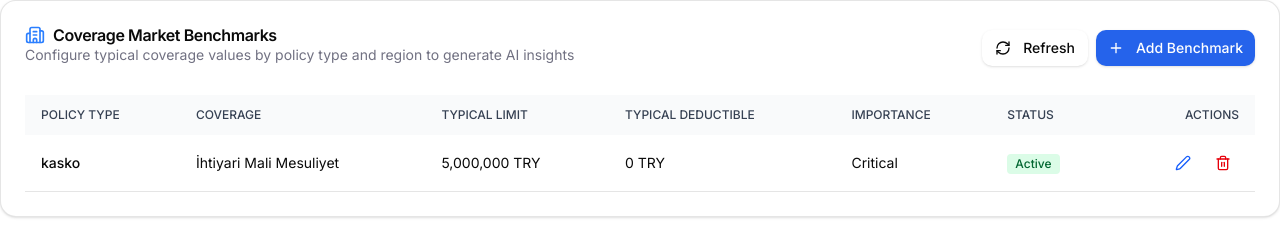
MarketBenchmarksPanel › soft deletes a benchmark when trash is clicked
The image size is (1280, 235).
Expected: the text "kasko" is shown, [25,135,180,192]
Click the 2nd button named "Delete" at (1223, 163), box [1207,147,1239,179]
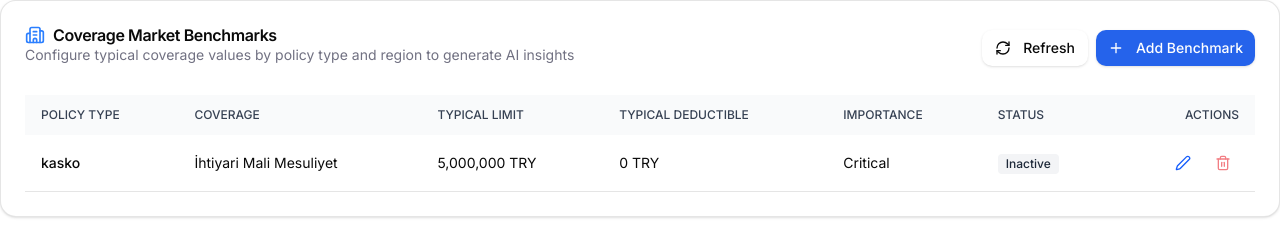
Expected: the text "Inactive" is shown, [998,154,1059,174]
